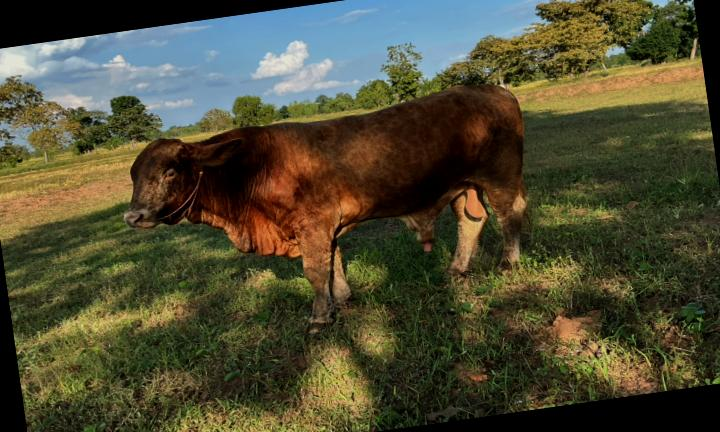Charolais: (124, 84, 526, 332)
